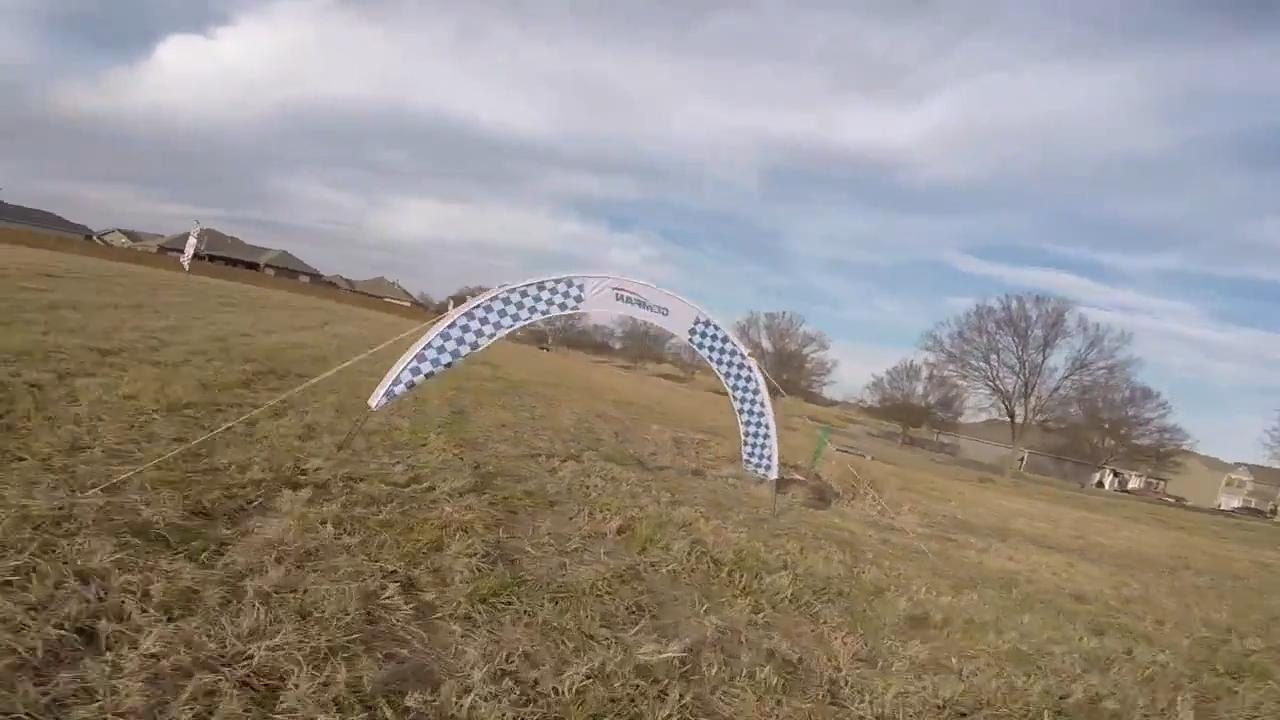gate: (362, 270, 783, 481)
